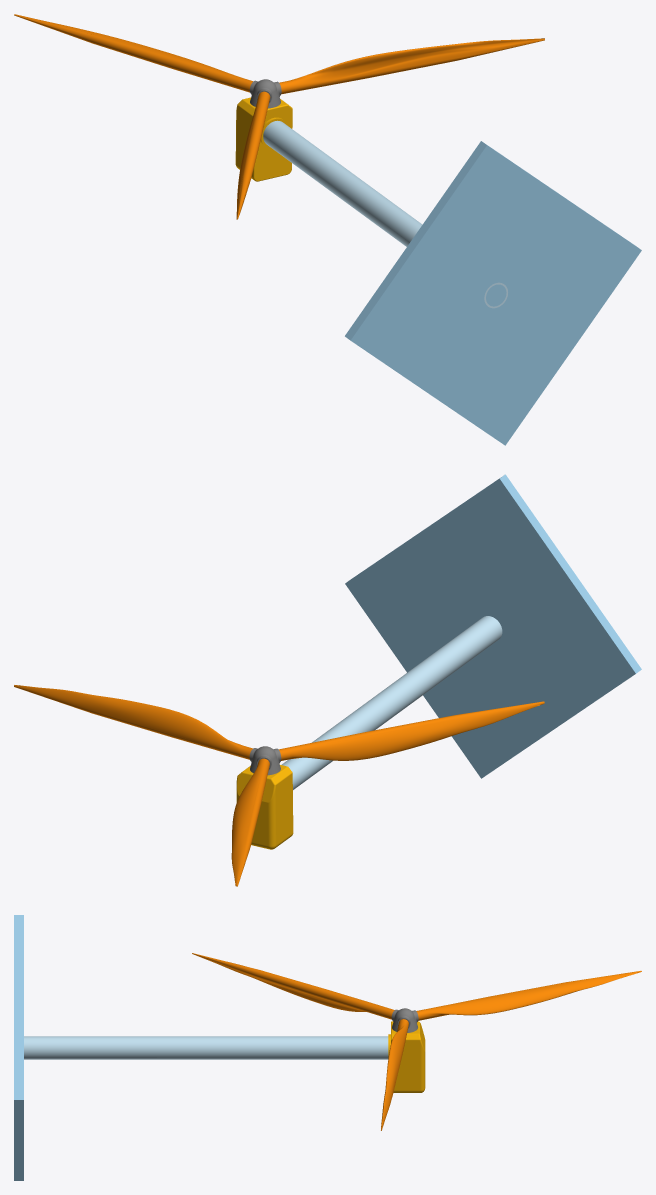
File: wind_turbine.dae
The picture shows the model from 3 angles, top to bottom: view 1: azimuth 30°, elevation 25°; view 2: azimuth 150°, elevation 25°; view 3: azimuth 270°, elevation 25°; orthographic projection. The views are drawn at different scales.
Parts seen in each view (by area): view 1: Part 7, tower, Blade_3, Blade_2, Nacelle, Blade, Hub; view 2: Part 7, tower, Blade, Blade_3, Nacelle, Blade_2, Hub; view 3: tower, Blade_2, Part 7, Blade, Nacelle, Blade_3, Hub.
Part boxes in pixels (box(x1,y1,x2,y2)): Part 7: box(345, 141, 641, 445); tower: box(263, 120, 507, 308); Blade_3: box(279, 38, 544, 94); Blade_2: box(14, 14, 252, 92); Nacelle: box(235, 97, 292, 181); Blade: box(236, 91, 270, 219); Hub: box(249, 79, 281, 108); Part 7: box(345, 474, 641, 778); tower: box(281, 616, 502, 789); Blade: box(279, 701, 544, 760); Blade_3: box(14, 685, 252, 759); Nacelle: box(236, 765, 293, 849); Blade_2: box(231, 758, 269, 886); Hub: box(249, 746, 281, 775); tower: box(24, 1036, 388, 1059); Blade_2: box(416, 971, 641, 1020); Part 7: box(14, 915, 23, 1180); Blade: box(192, 953, 394, 1019); Nacelle: box(388, 1021, 425, 1092); Blade_3: box(381, 1019, 408, 1130); Hub: box(391, 1008, 418, 1032).
Bounding box in the file's own units: 81.29 × 124 × 56.46.
